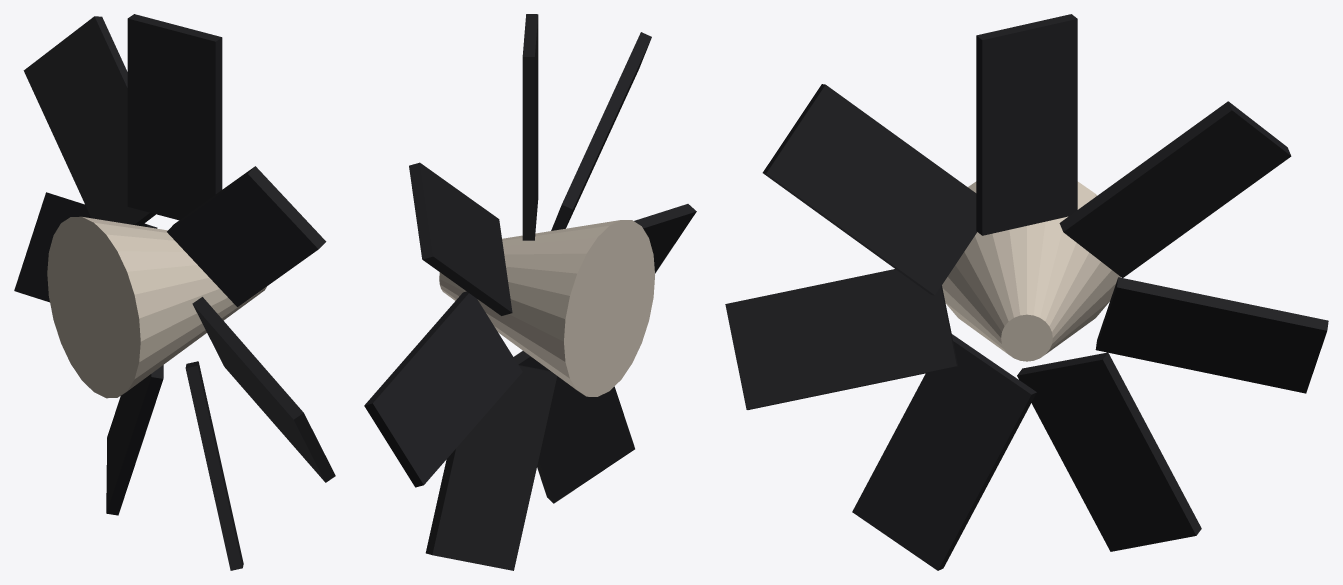
File: SM_Fan_1.fbx
3 views of the same model, side by side, from view 1: azimuth 30°, elevation 25°; view 2: azimuth 150°, elevation 25°; view 3: azimuth 270°, elevation 25° (orthographic). The views are drawn at different scales.
Visible parts, largest first — view 1: Fan_1; view 2: Fan_1; view 3: Fan_1.
Boxes of the visible parts, <box> form: Fan_1: <box>14,14,335,570</box>; Fan_1: <box>364,14,696,570</box>; Fan_1: <box>725,14,1328,570</box>.
Bounding box in the file's own units: 0.2795 × 0.09 × 0.2725.
